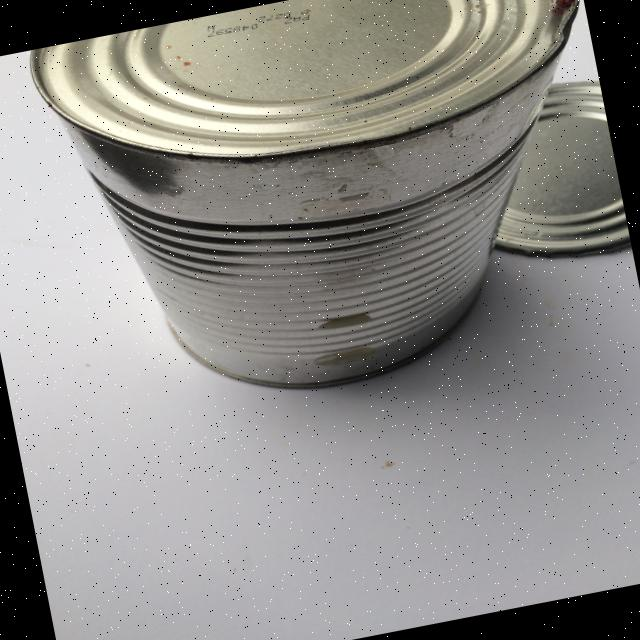metal: (26, 0, 640, 432)
